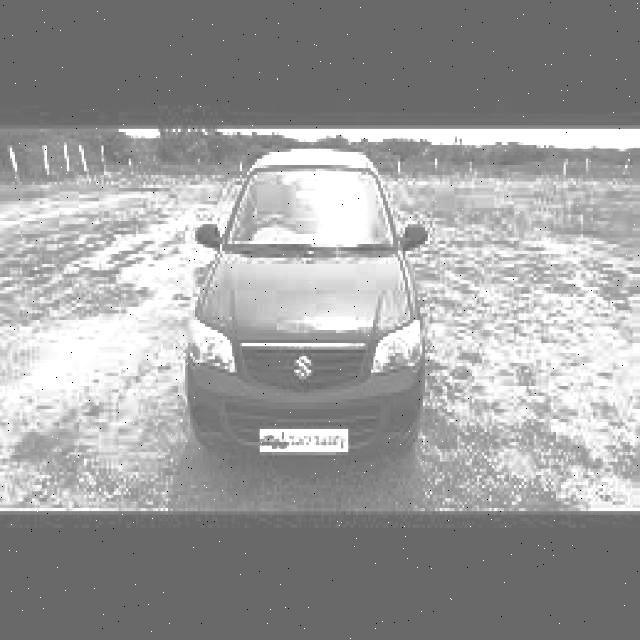Car: (171, 149, 432, 452)
